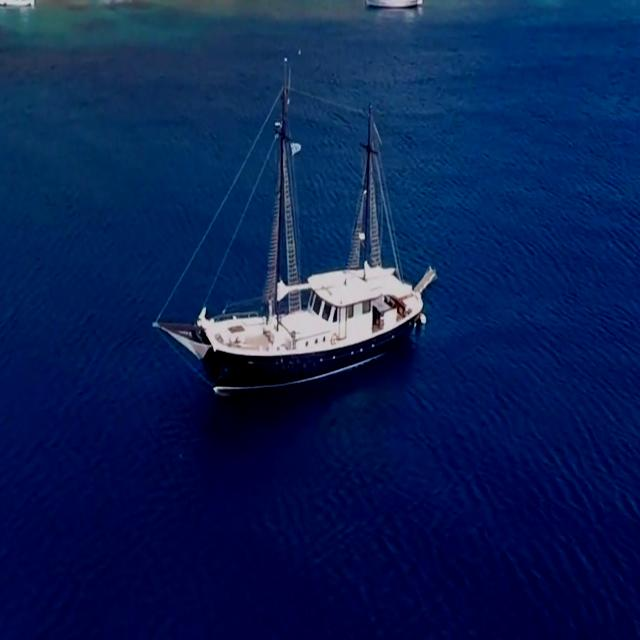ship: (188, 61, 432, 387)
